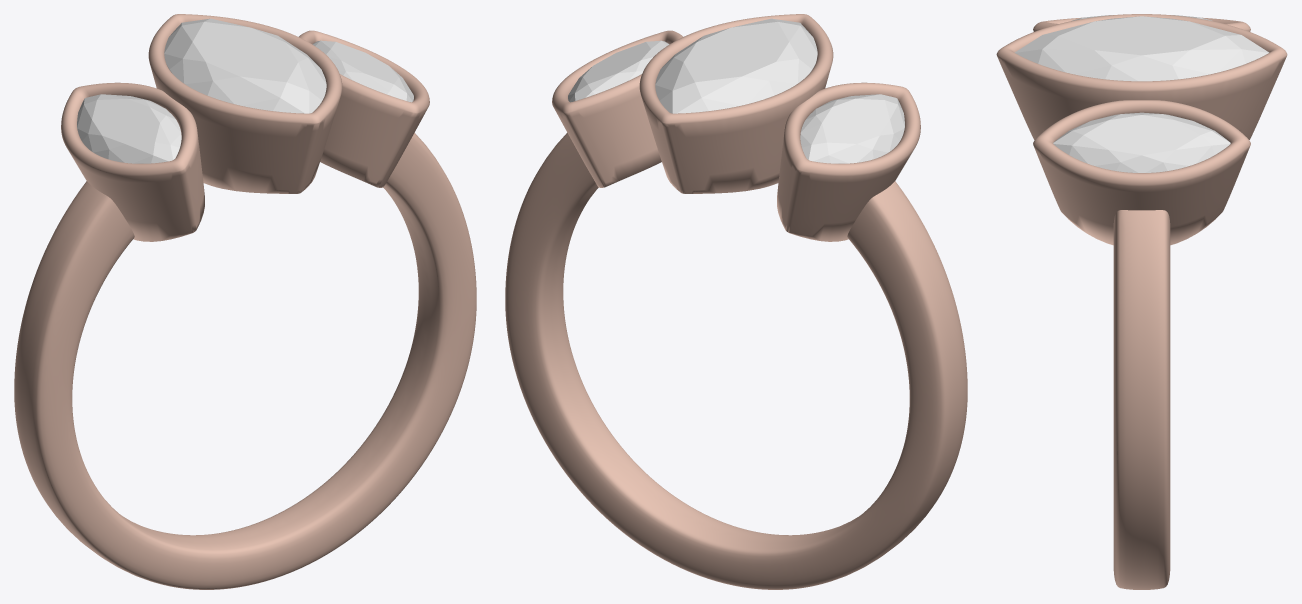
File: diamond-marquise-rosegold-bezelset-straightband-3stone.glb
3 renders of one model, left to right at view 1: azimuth 30°, elevation 25°; view 2: azimuth 150°, elevation 25°; view 3: azimuth 270°, elevation 25°, orthographic.
Parts seen in each view (by area): view 1: metal.002, stone.003, side.007, side.006; view 2: metal.002, stone.003, side.007, side.006; view 3: metal.002, stone.003, side.006.
Boxes of the visible parts, x1,y1,x2,y2 form: metal.002: (14,14,476,589); stone.003: (164,18,326,113); side.007: (77,94,181,163); side.006: (312,40,413,102); metal.002: (505,14,967,589); stone.003: (655,18,817,113); side.007: (800,94,904,163); side.006: (568,40,669,102); metal.002: (996,14,1287,589); stone.003: (1014,16,1269,81); side.006: (1053,112,1230,172).
Bounding box in the file's own units: 20.1 × 22.73 × 11.31.
